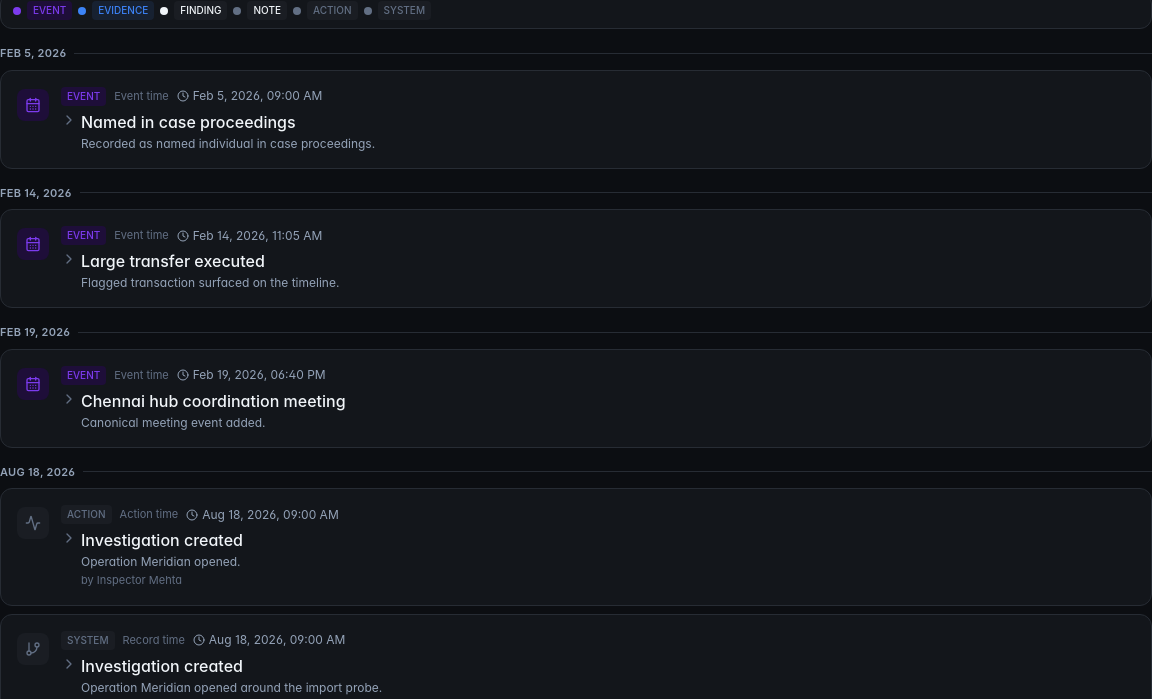
Test: InvestigationTimelineTab › expands an event row into the detail panel with grounded entities
Step 1. Click the button with test id "timeline-expand-int-006-4" → (203, 400), box left=61, top=388, right=346, bottom=412
(page scrolled)
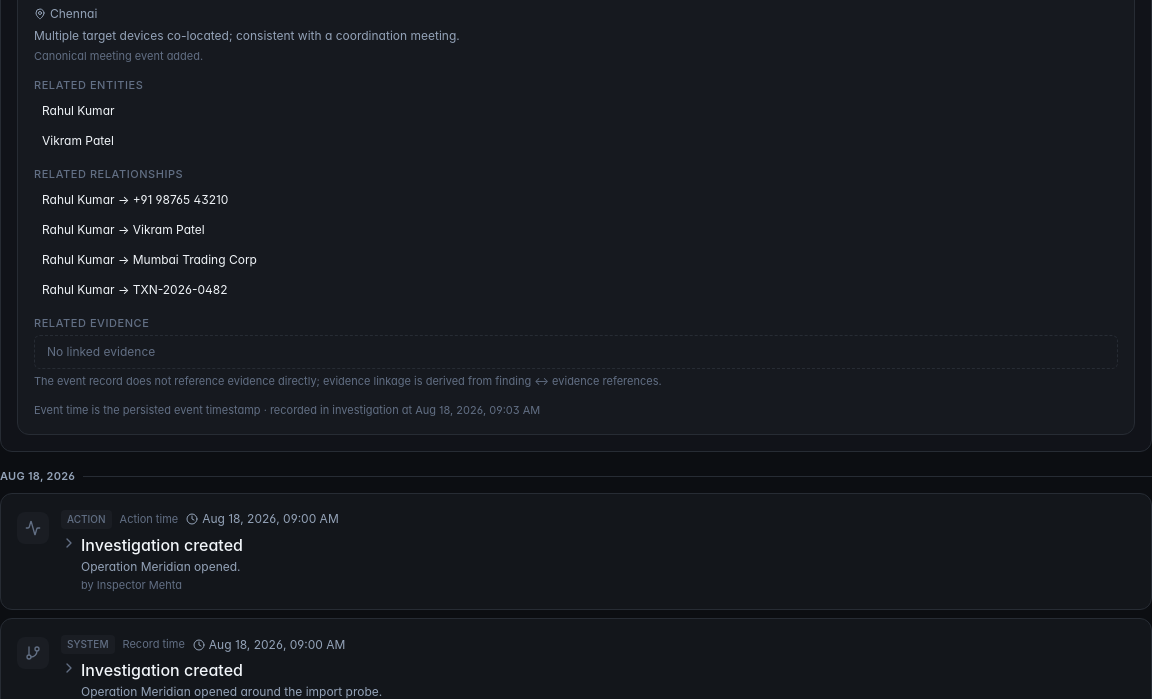
Expected: the text "Chennai" is shown, left=34, top=6, right=97, bottom=20
Expected: the button with test id "timeline-event-entity-ent-person-001" is shown, left=34, top=99, right=1118, bottom=123
Expected: the button with test id "timeline-event-entity-ent-person-003" is shown, left=34, top=129, right=1118, bottom=153
